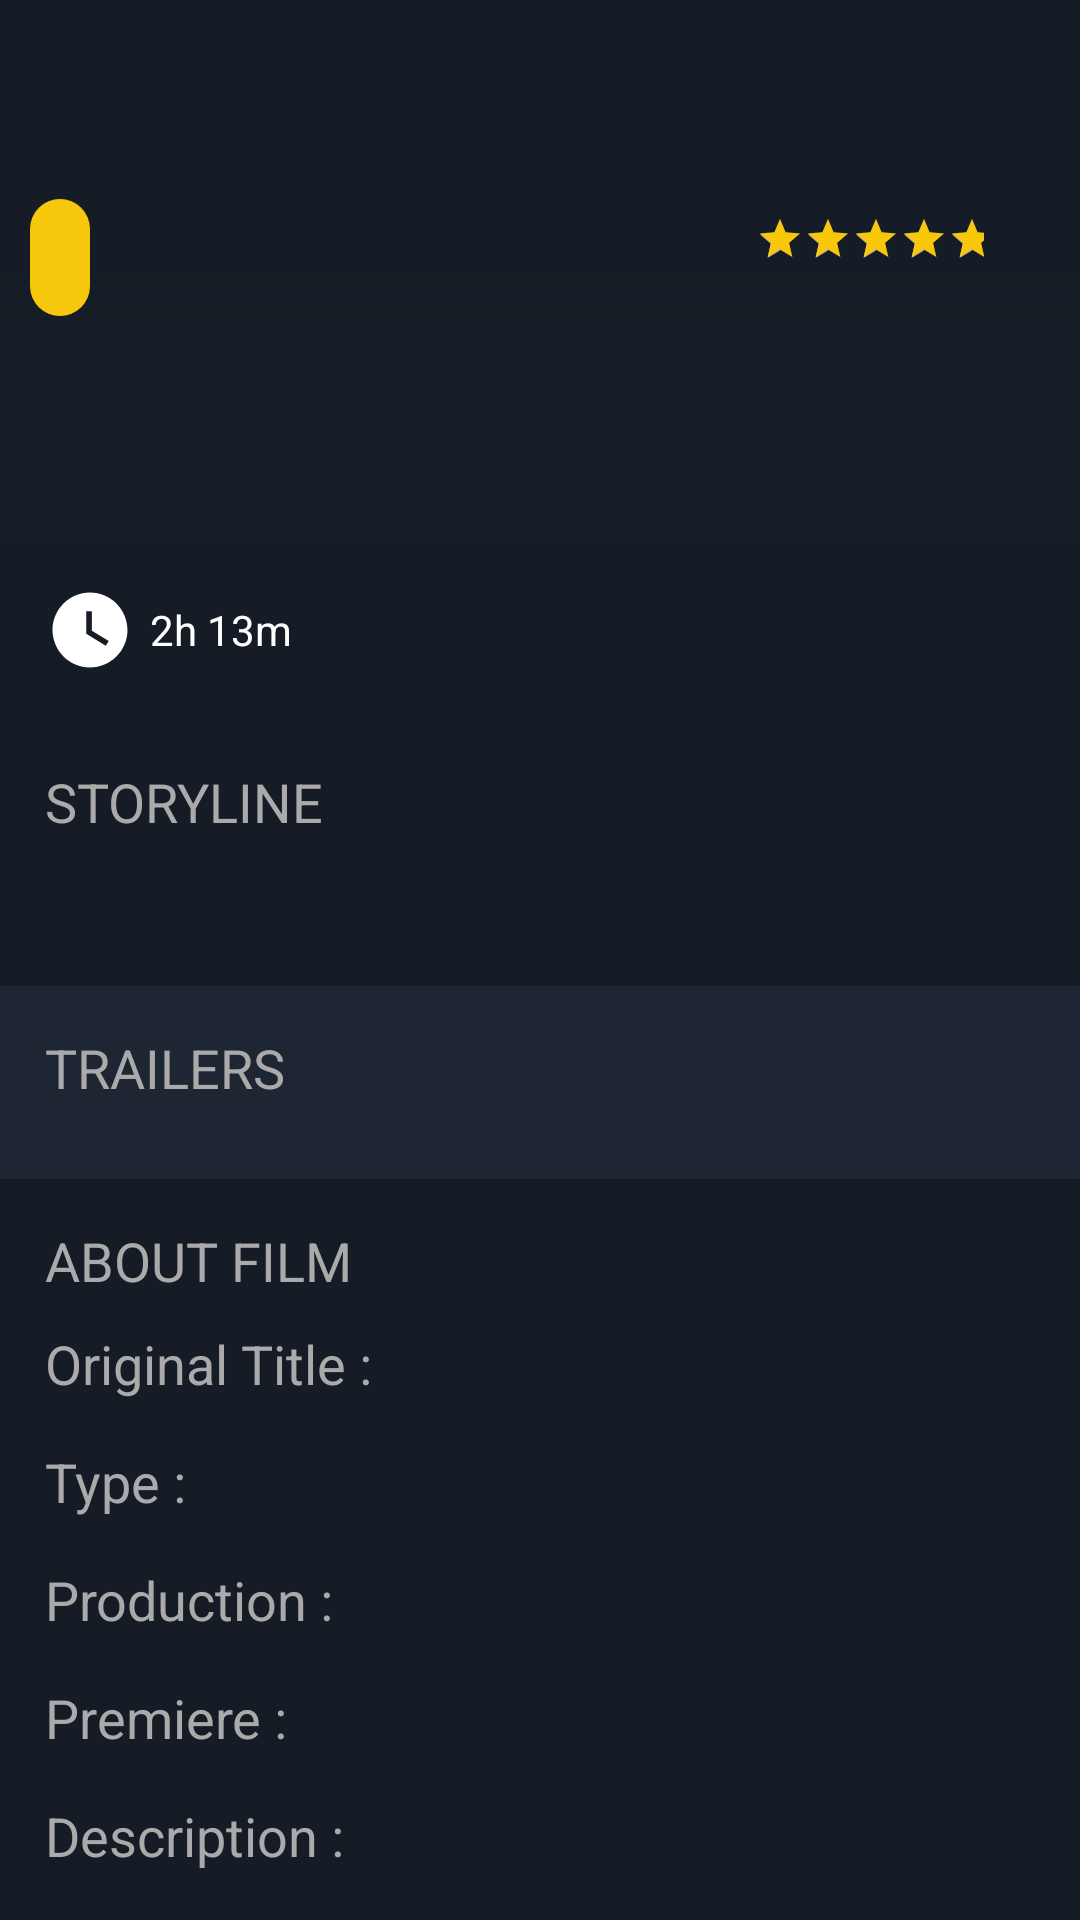

Icon click points for this 1080×1920 phone screenshot, format (x,y):
time: (90,630)
